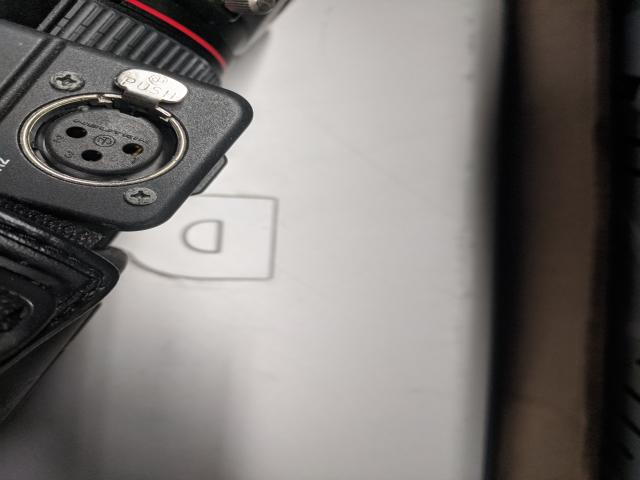CRS: (48, 71, 86, 89), (126, 187, 158, 206)
